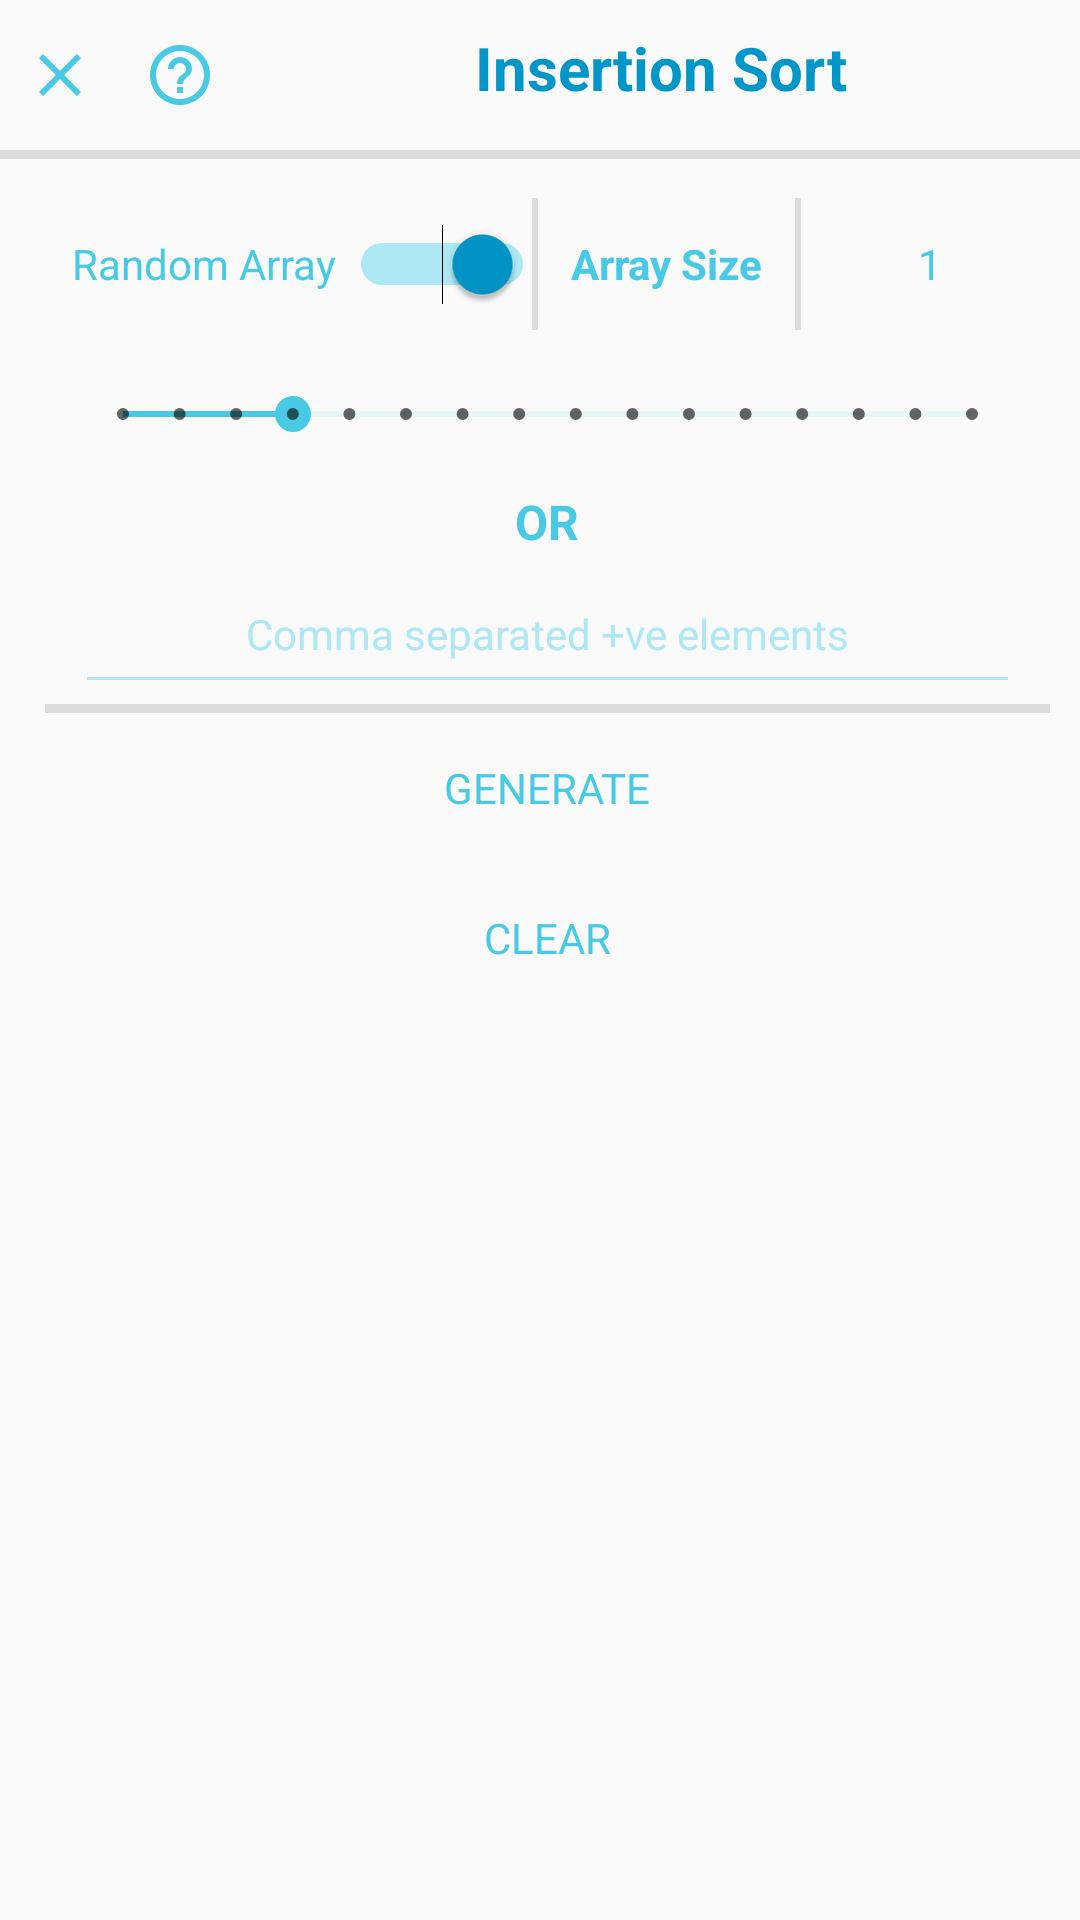

Locate icon controls on the screen. Image size 1080px×1920px, boxes as (x1, y1, x2, y2).
close: (39, 54, 81, 96)
Help: (150, 45, 210, 105)
